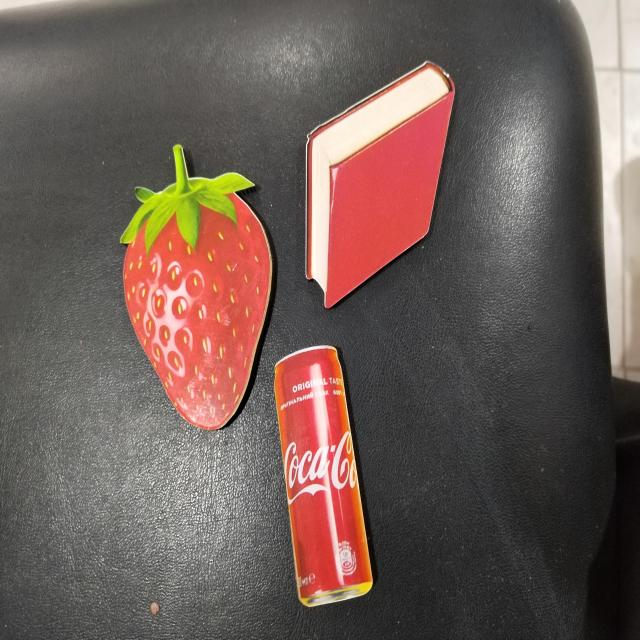Other Objects: (273, 344, 373, 607)
